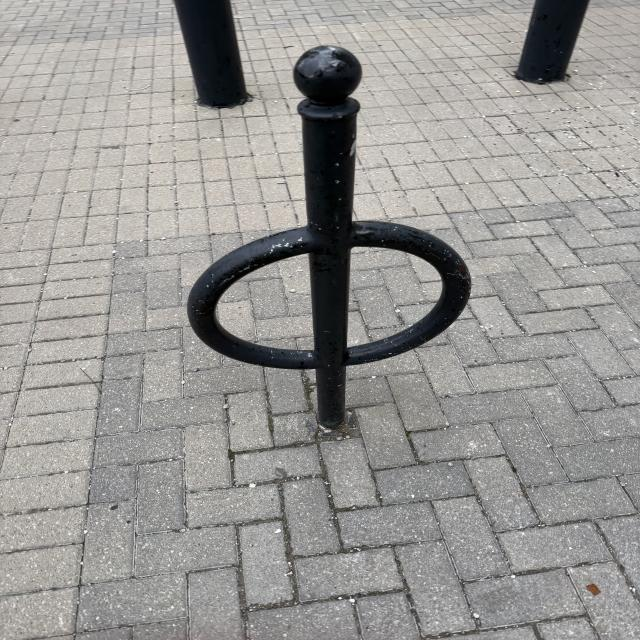Bicycle Rack: (186, 44, 473, 421)
